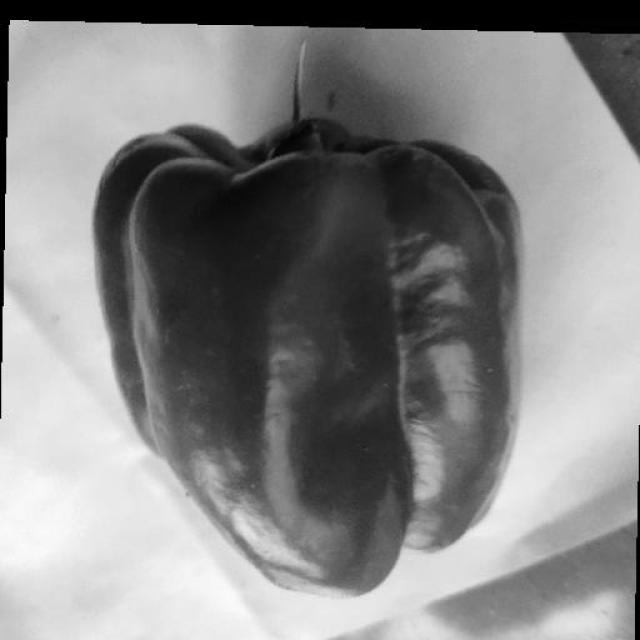Stale_Capsicum: (65, 108, 506, 569)
